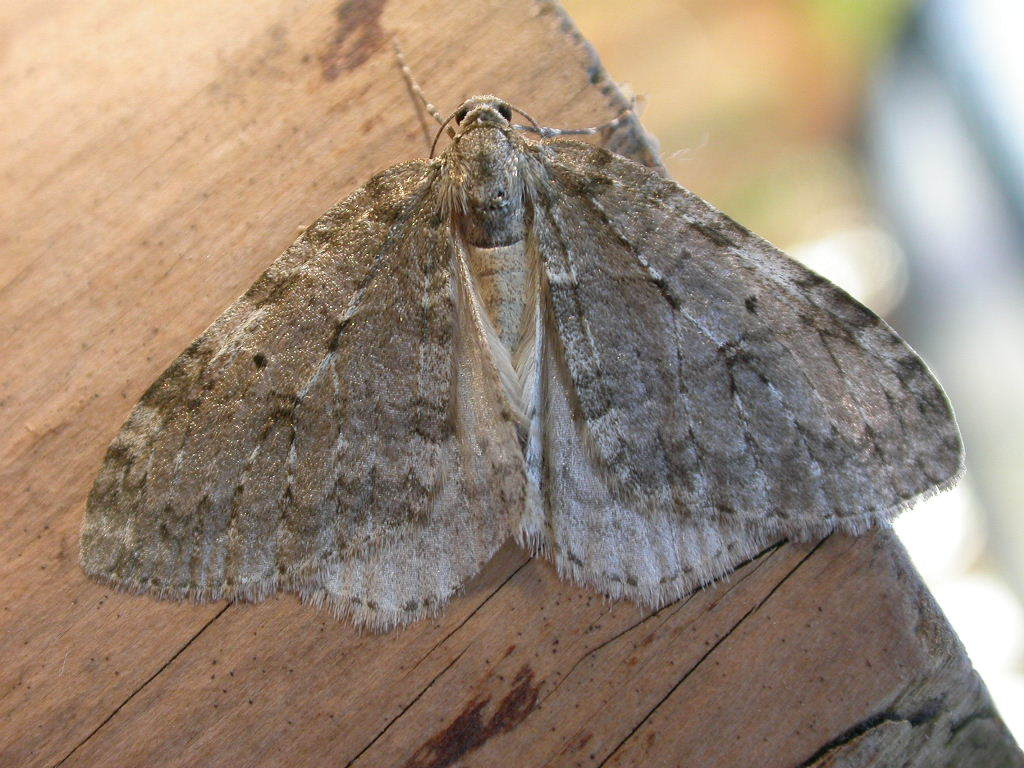Butterfly: (76, 71, 972, 635)
